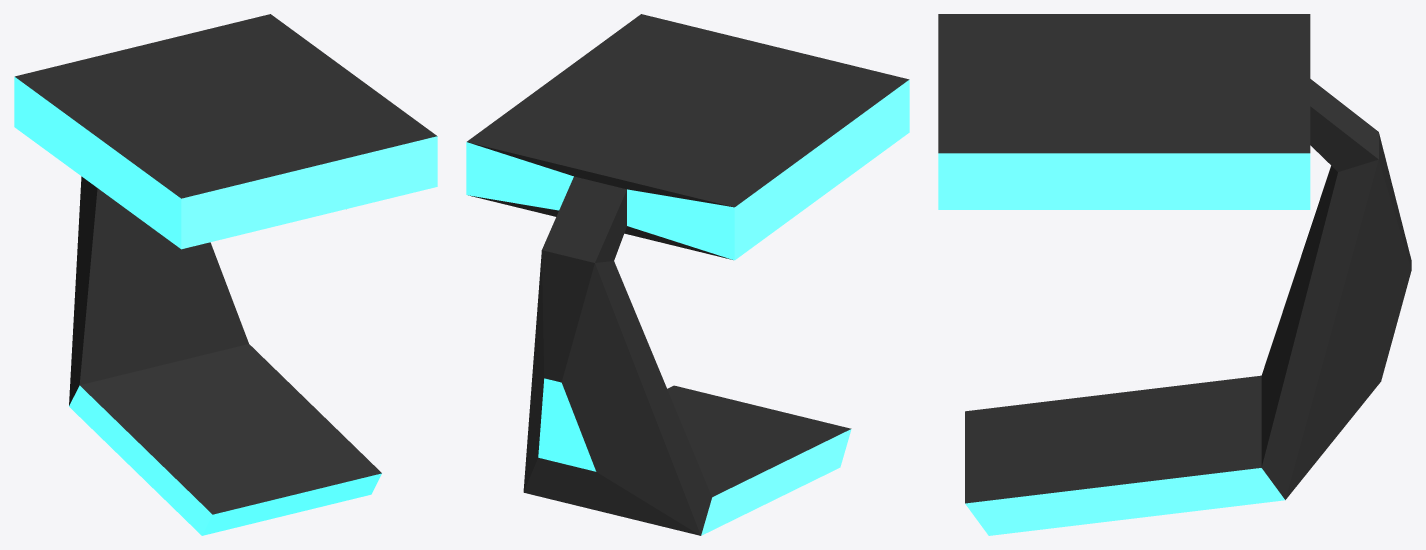
File: implantTest.fbx
The picture shows the model from 3 angles, left to right: view 1: azimuth 30°, elevation 25°; view 2: azimuth 150°, elevation 25°; view 3: azimuth 270°, elevation 25°; orthographic projection. The views are drawn at different scales.
Parts seen in each view (by area): view 1: Cube; view 2: Cube; view 3: Cube.
Part boxes in pixels (x1,y1,x2,y2): Cube: (14,14,437,535); Cube: (466,14,909,535); Cube: (938,14,1411,535).
Size of the model in its own units: 128 by 174 by 184.
